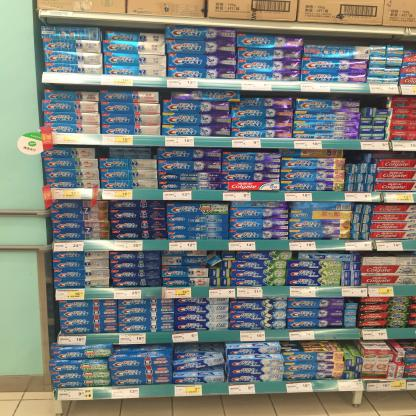Void: (99, 146, 153, 156), (349, 149, 364, 161), (368, 96, 379, 107)
